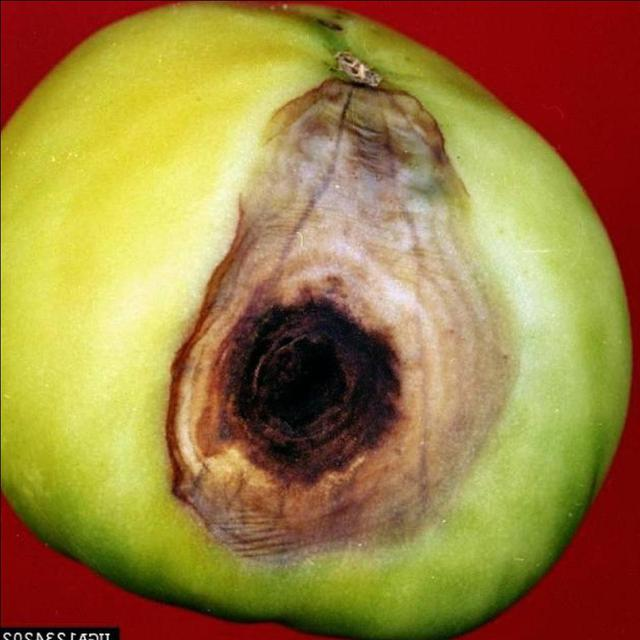Sunscald Fruit: (101, 30, 344, 388)
